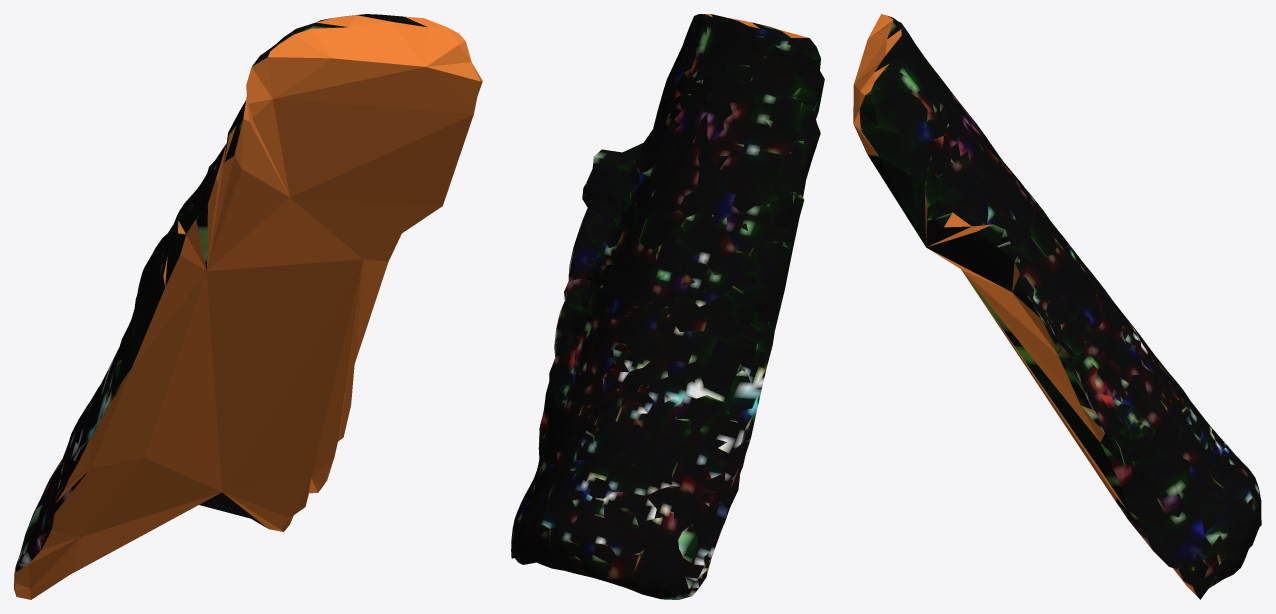
3 views of the same model, side by side, from view 1: azimuth 30°, elevation 25°; view 2: azimuth 150°, elevation 25°; view 3: azimuth 270°, elevation 25° (orthographic). The views are drawn at different scales.
Visible parts, largest first — view 1: scene_textured; view 2: scene_textured; view 3: scene_textured.
Part boxes in pixels (bbox=[...]): scene_textured: bbox=[14, 14, 482, 599]; scene_textured: bbox=[511, 14, 824, 599]; scene_textured: bbox=[853, 14, 1261, 599].
Bounding box in the file's own units: 1.18 × 2.61 × 1.89.
Materials: 1 (1 with a texture image).
